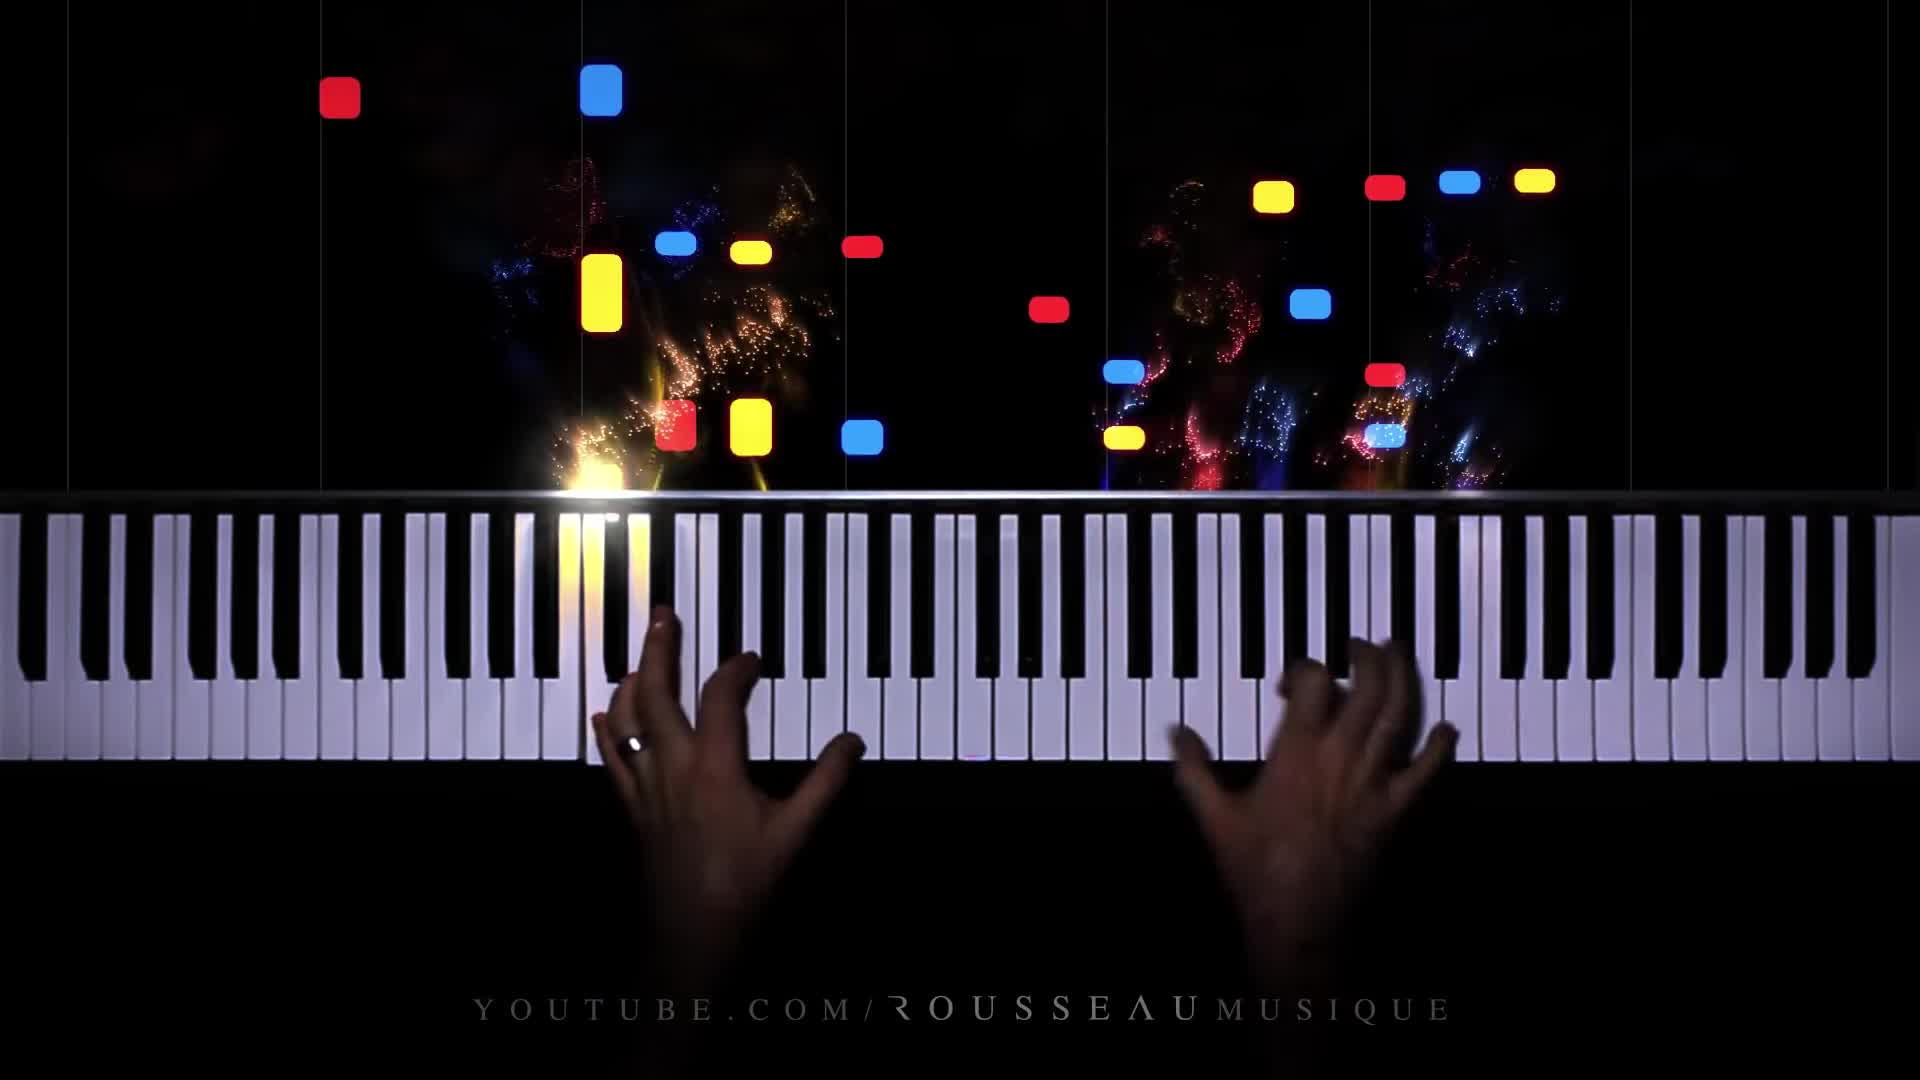left: (589, 605, 866, 905)
right: (1170, 634, 1458, 913)
